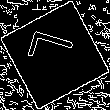L_E: (27, 33, 83, 77)
